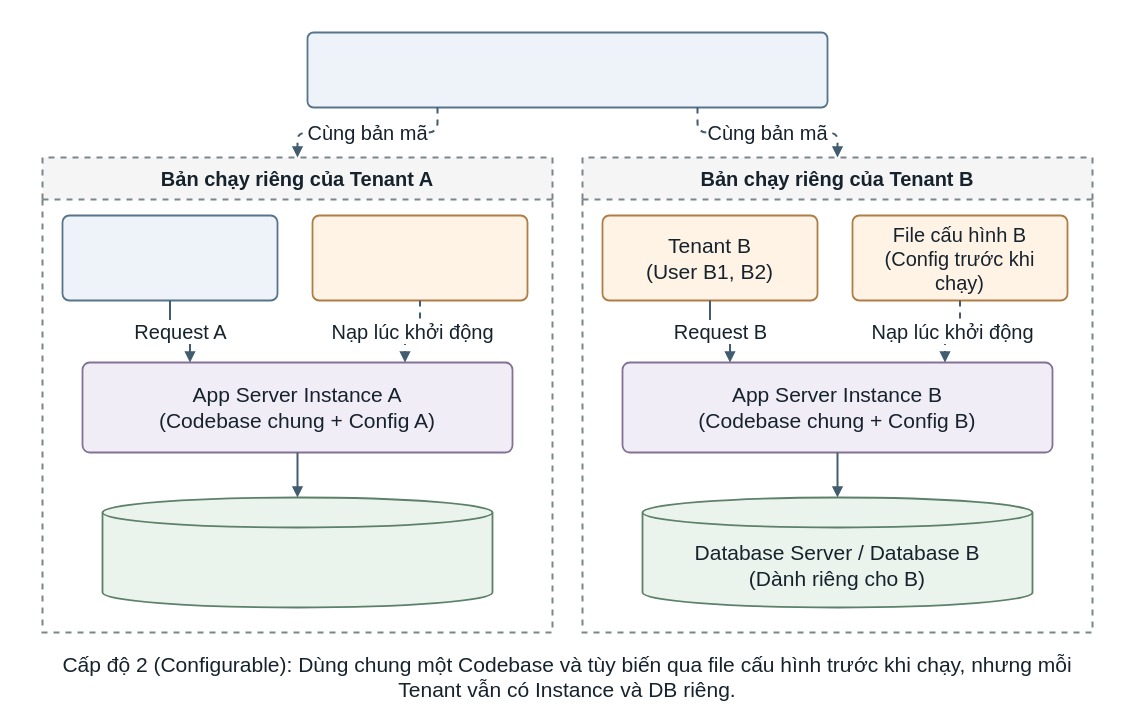
The diagram is 1134 pixels wide and 724 high, and some of its shapes have lost their labels. The centre of each missing label's shape, as x and y in pixels:
Database Server / Database A (Dành riêng cho A): point (297, 552)
File cấu hình A (Config trước khi chạy): point (419, 257)
Một bộ mã nguồn chuẩn dùng chung (Single Codebase): point (567, 69)
Tenant A (User A1, A2): point (169, 257)
